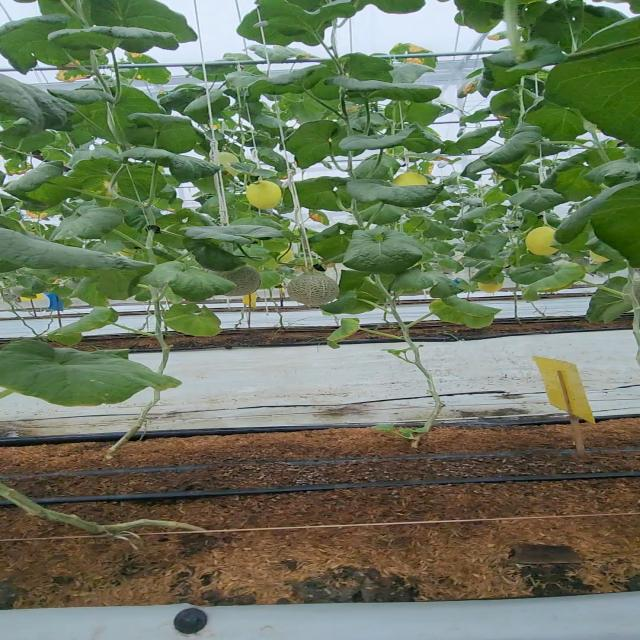Rear-melon: (284, 272, 339, 302), (244, 180, 285, 210), (527, 228, 557, 254)
